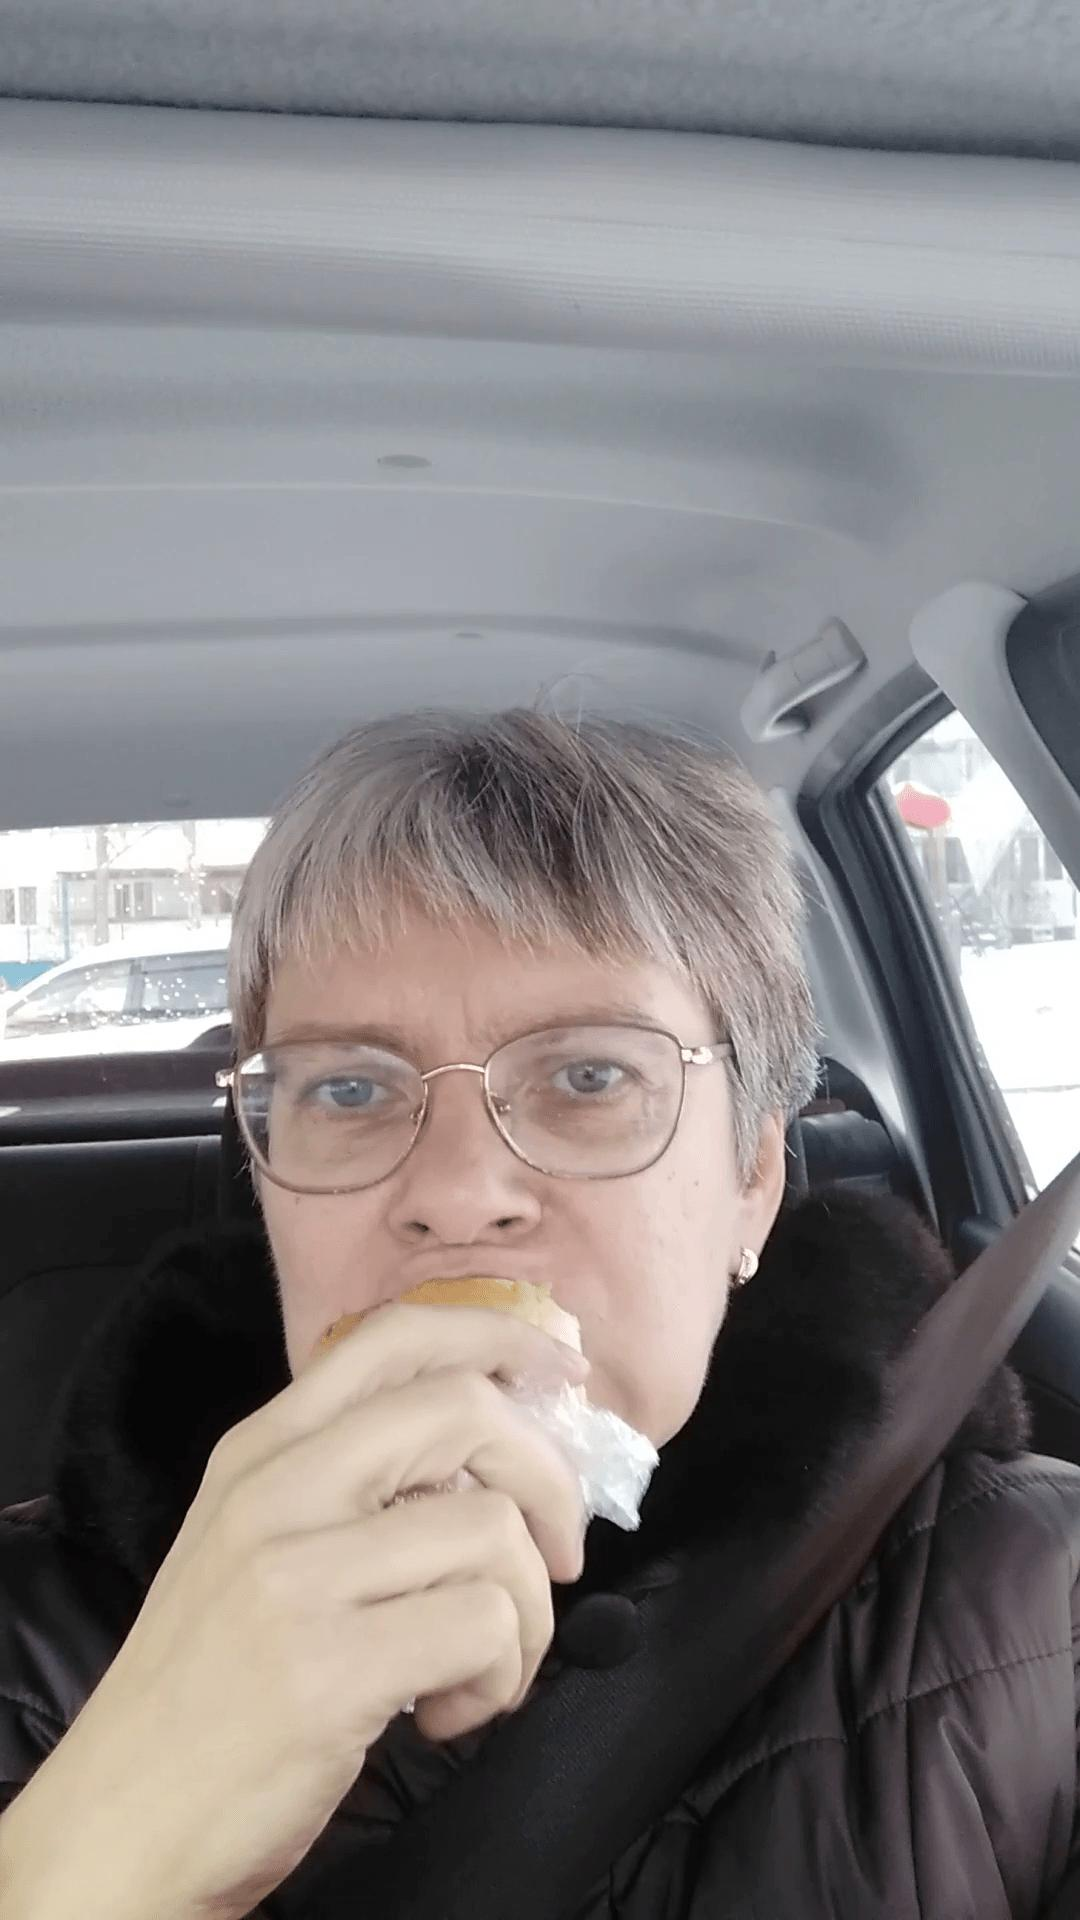Eating: (318, 1228, 671, 1569)
